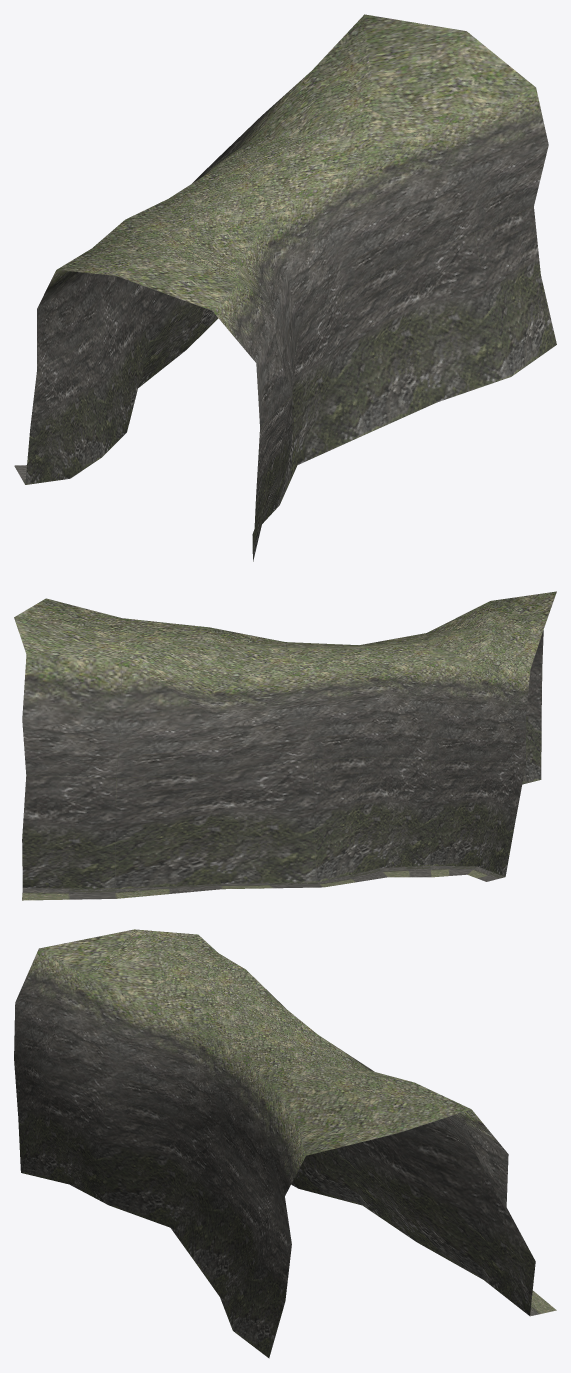
Rendered from Blocker_AllSeeingEye.dae.
The picture shows the model from 3 angles, top to bottom: view 1: azimuth 30°, elevation 25°; view 2: azimuth 150°, elevation 25°; view 3: azimuth 270°, elevation 25°; orthographic projection. The views are drawn at different scales.
Visible parts, largest first — view 1: AllSeeingEye_Wall; view 2: AllSeeingEye_Wall; view 3: AllSeeingEye_Wall.
Part boxes in pixels (bbox=[...]): AllSeeingEye_Wall: bbox=[14, 14, 556, 561]; AllSeeingEye_Wall: bbox=[14, 591, 556, 900]; AllSeeingEye_Wall: bbox=[14, 929, 556, 1358].
Size of the model in its own units: 1566 by 709 by 1586.
